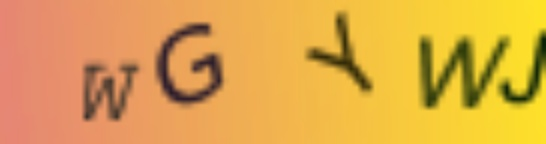G: (150, 18, 226, 109)
J: (499, 26, 546, 105)
W: (413, 32, 512, 112), (74, 57, 142, 125)
Y: (303, 7, 377, 95)
